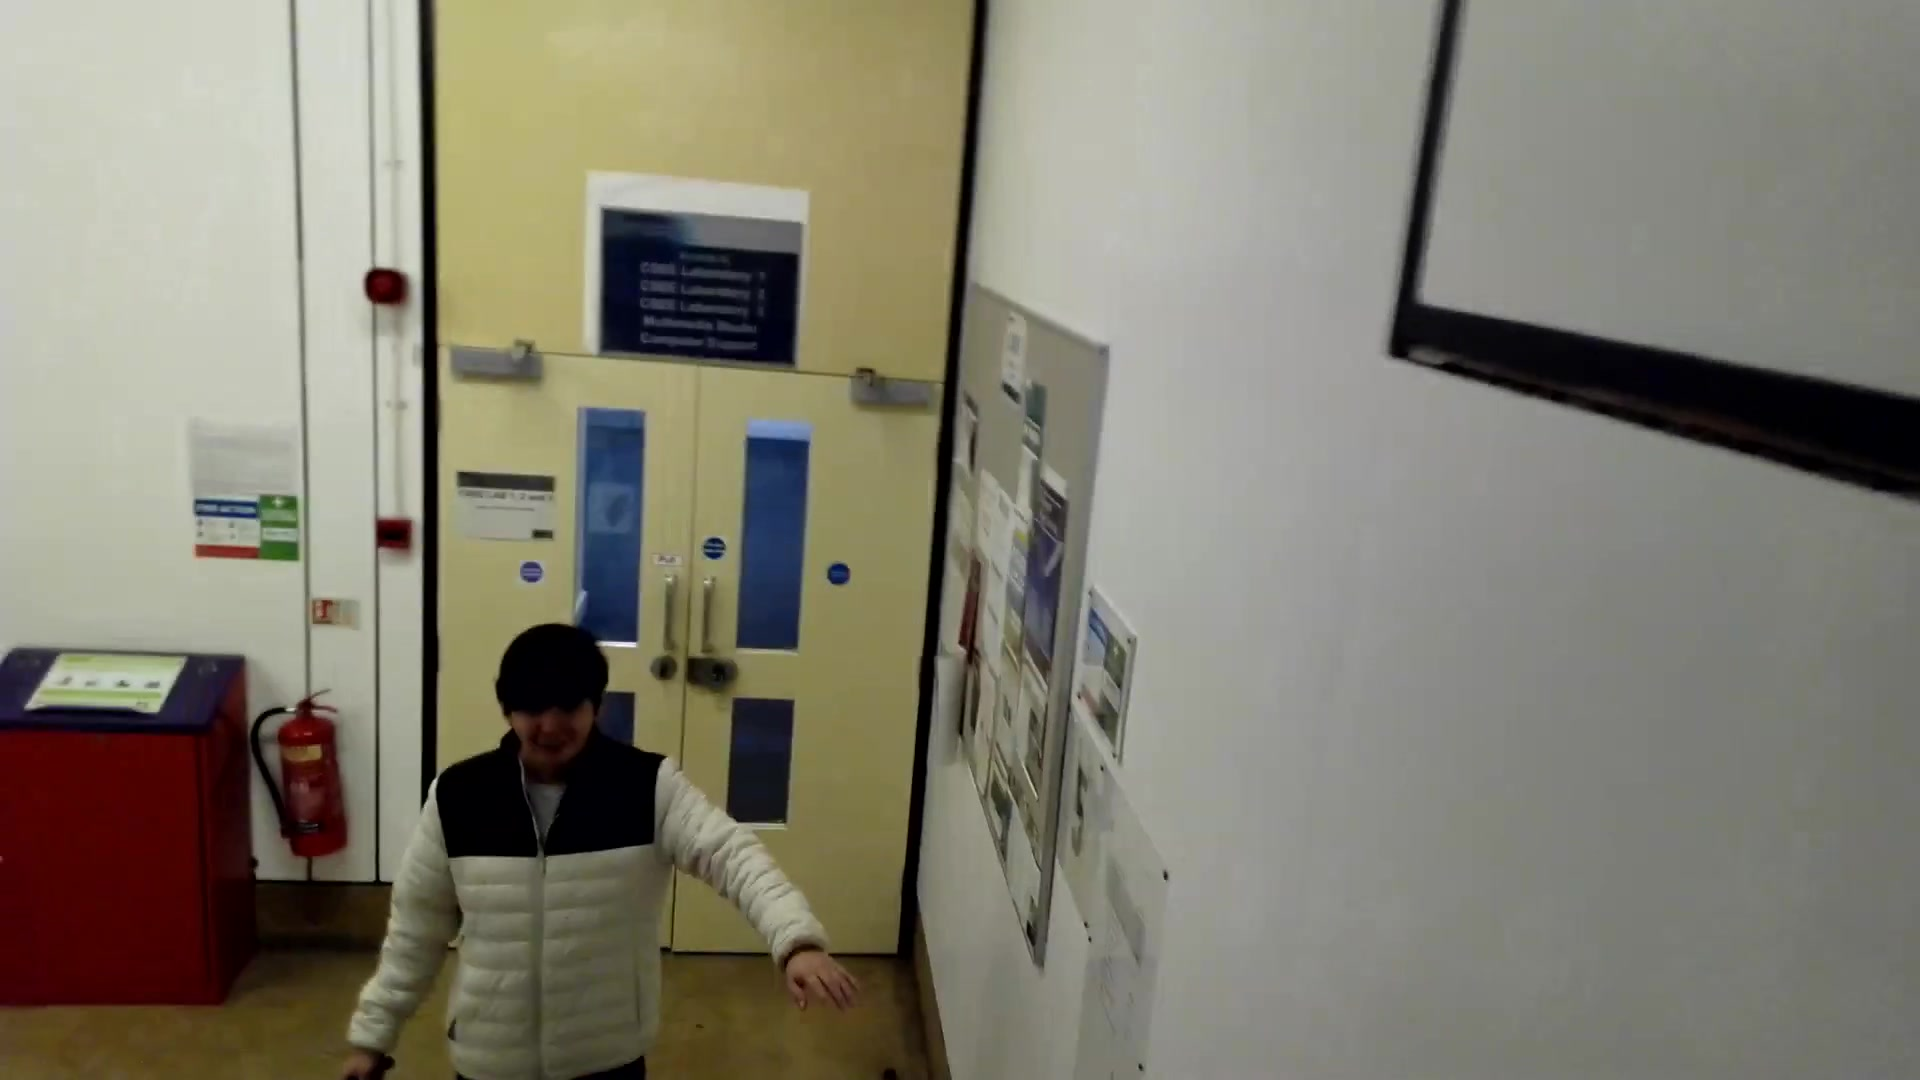Bin: (1, 638, 270, 1011)
Person: (408, 625, 753, 1080)
